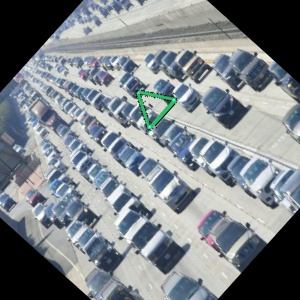triangle: (134, 86, 179, 132)
